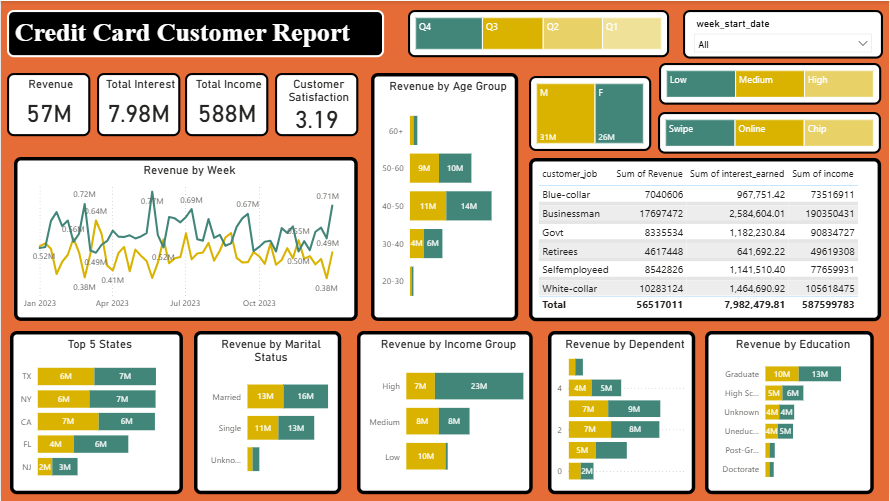

This screenshot's page, from the dashboard's own definition file:
{"tool":"powerbi","page":{"name":"CC Customer","canvas":[1280,720],"ordinal":2},"visuals":[{"type":"textbox","box":[8.6,13,542.9,67.7],"z":0},{"type":"barChart","title":"Revenue by Income Group","fields":{"Y":["Sum(public cc_detail.Revenue)"],"Category":["public cust_detail.IncomeGroup"],"Series":["public cust_detail.gender"]},"box":[512.6,475.2,253.4,234.7],"z":1000},{"type":"tableEx","fields":{"Values":["public cust_detail.customer_job","Sum(public cc_detail.Revenue)","Sum(public cc_detail.interest_earned)","Sum(public cust_detail.income)"]},"box":[760.3,226.1,506.9,234.7],"z":2000},{"type":"card","title":"Total Income","fields":{"Values":["Sum(public cust_detail.income)"]},"box":[265,103.7,120,90.7],"z":3000},{"type":"card","title":"Total Interest","fields":{"Values":["Sum(public cc_detail.interest_earned)"]},"box":[138.2,103.7,119.5,90.7],"z":4000},{"type":"card","title":"Customer Satisfaction","fields":{"Values":["Avg(public cust_detail.cust_satisfaction_score)"]},"box":[394.6,103.7,120,90.7],"z":5000},{"type":"card","title":"Revenue","fields":{"Values":["Sum(public cc_detail.Revenue)"]},"box":[8.6,103.7,120,90.7],"z":6000},{"type":"slicer","fields":{"Values":["public cc_detail.week_start_date"]},"box":[982.1,13,288,70],"z":7000},{"type":"treemap","fields":{"Group":["public cc_detail.qtr"],"Values":["Avg(public cc_detail.client_num)"]},"box":[586.1,13,375.8,67.7],"z":8000},{"type":"treemap","fields":{"Group":["public cust_detail.gender"],"Values":["Sum(public cc_detail.Revenue)"]},"box":[760.3,108,175.7,108],"z":9000},{"type":"treemap","fields":{"Values":["Avg(public cc_detail.client_num)"],"Group":["public cc_detail.use_chip"]},"box":[946.1,159.8,321.1,60.5],"z":10000},{"type":"treemap","fields":{"Values":["Avg(public cc_detail.client_num)"],"Group":["public cust_detail.IncomeGroup"]},"box":[947.5,89.3,319.7,60.5],"z":11000},{"type":"lineChart","title":"Revenue by Week","fields":{"Y":["Sum(public cc_detail.Revenue)"],"Series":["public cust_detail.gender"],"Category":["public cc_detail.week_start_date.Variation.Date Hierarchy.Year","public cc_detail.week_start_date.Variation.Date Hierarchy.Month","public cc_detail.week_start_date.Variation.Date Hierarchy.Day"]},"box":[18.7,224.6,495.4,236.2],"z":12000},{"type":"barChart","title":"Revenue by Age Group","fields":{"Y":["Sum(public cc_detail.Revenue)"],"Category":["public cust_detail.AgeGroup"],"Series":["public cust_detail.gender"]},"box":[532.8,103.7,211.7,357.1],"z":13000},{"type":"barChart","title":"Revenue by Dependent","fields":{"Y":["Sum(public cc_detail.Revenue)"],"Category":["public cust_detail.dependent_count"],"Series":["public cust_detail.gender"]},"box":[787.7,475.2,211.7,234.7],"z":14000},{"type":"barChart","title":"Revenue by Education","fields":{"Y":["Sum(public cc_detail.Revenue)"],"Category":["public cust_detail.education_level"],"Series":["public cust_detail.gender"]},"box":[1013.8,475.2,243.4,234.7],"z":15000},{"type":"barChart","title":"Top 5 States","fields":{"Y":["Sum(public cc_detail.Revenue)"],"Category":["public cust_detail.state_cd"],"Series":["public cust_detail.gender"]},"box":[13,475.2,249.1,234.7],"z":16000},{"type":"barChart","title":"Revenue by Marital Status","fields":{"Y":["Sum(public cc_detail.Revenue)"],"Category":["public cust_detail.marital_status"],"Series":["public cust_detail.gender"]},"box":[277.9,475.2,211.7,234.7],"z":17000}]}

Visuals, with their boxes in screenshot pixels (x1, y1, x2, y2), scaled from the page's 1280x720 canvas onto the 890x501 screenshot:
textbox: 6 9 383 56
"Revenue by Income Group" barChart: 356 331 533 494
tableEx - public cust_detail.customer_job x Sum(public cc_detail.Revenue): 529 157 881 321
"Total Income" card: 184 72 268 135
"Total Interest" card: 96 72 179 135
"Customer Satisfaction" card: 274 72 358 135
"Revenue" card: 6 72 89 135
slicer - public cc_detail.week_start_date: 683 9 883 58
treemap - public cc_detail.qtr x Avg(public cc_detail.client_num): 408 9 669 56
treemap - public cust_detail.gender x Sum(public cc_detail.Revenue): 529 75 651 150
treemap - Avg(public cc_detail.client_num) x public cc_detail.use_chip: 658 111 881 153
treemap - Avg(public cc_detail.client_num) x public cust_detail.IncomeGroup: 659 62 881 104
"Revenue by Week" lineChart: 13 156 357 321
"Revenue by Age Group" barChart: 370 72 518 321
"Revenue by Dependent" barChart: 548 331 695 494
"Revenue by Education" barChart: 705 331 874 494
"Top 5 States" barChart: 9 331 182 494
"Revenue by Marital Status" barChart: 193 331 340 494
